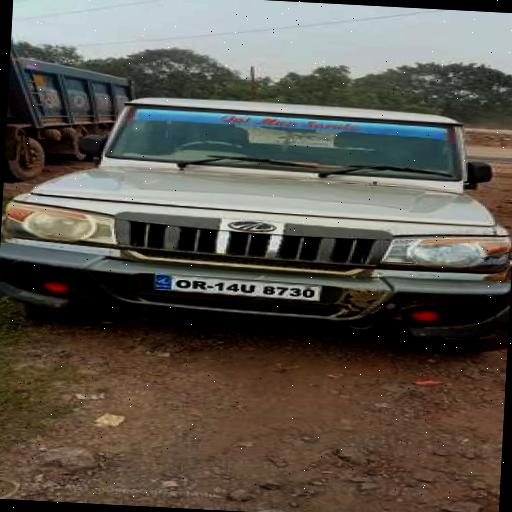license_plate`: (152, 274, 318, 300)
